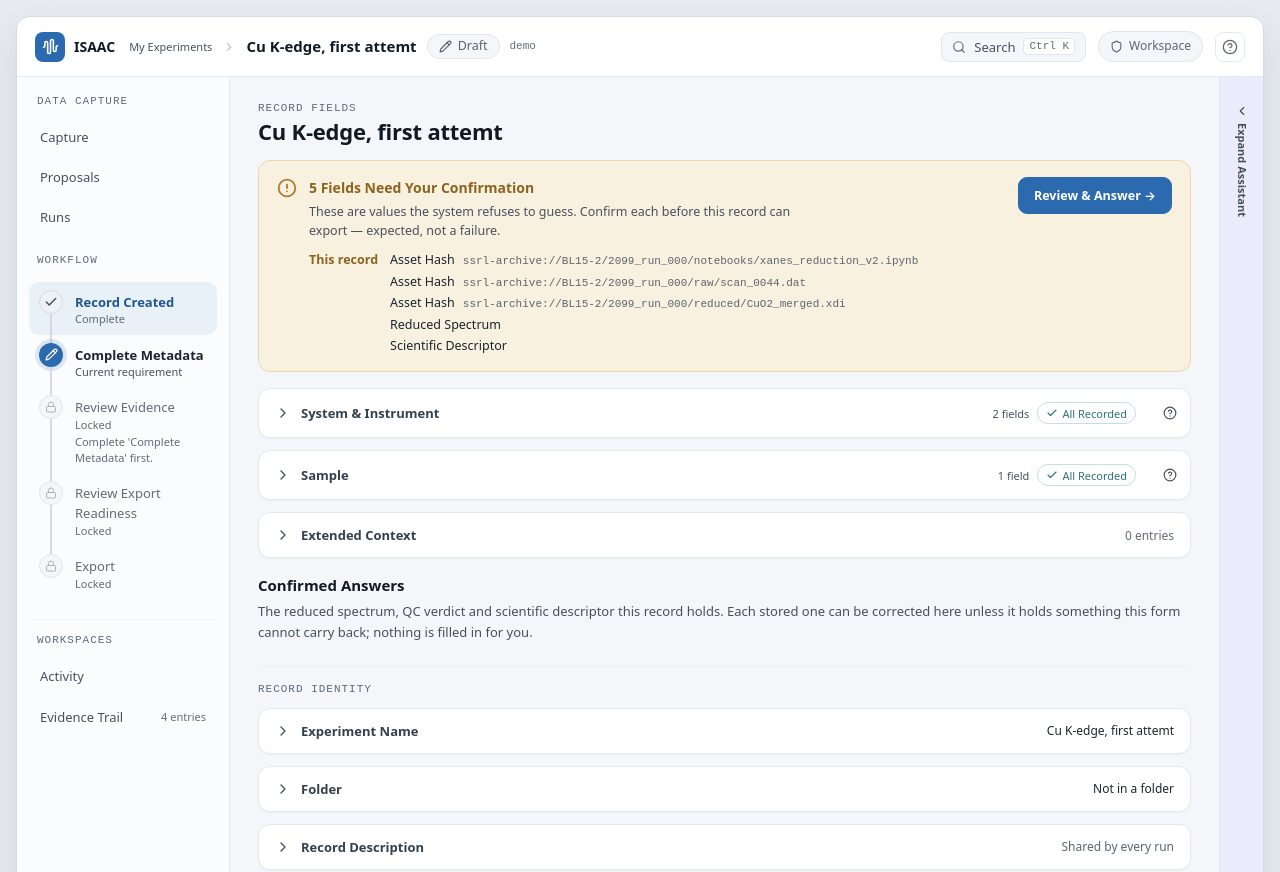
Test: the affordance is reachable › the record screen mounts it
Click the button "Experiment Name Cu K-edge, first attemt".
click(360, 731)  # box [259,709,1190,753]
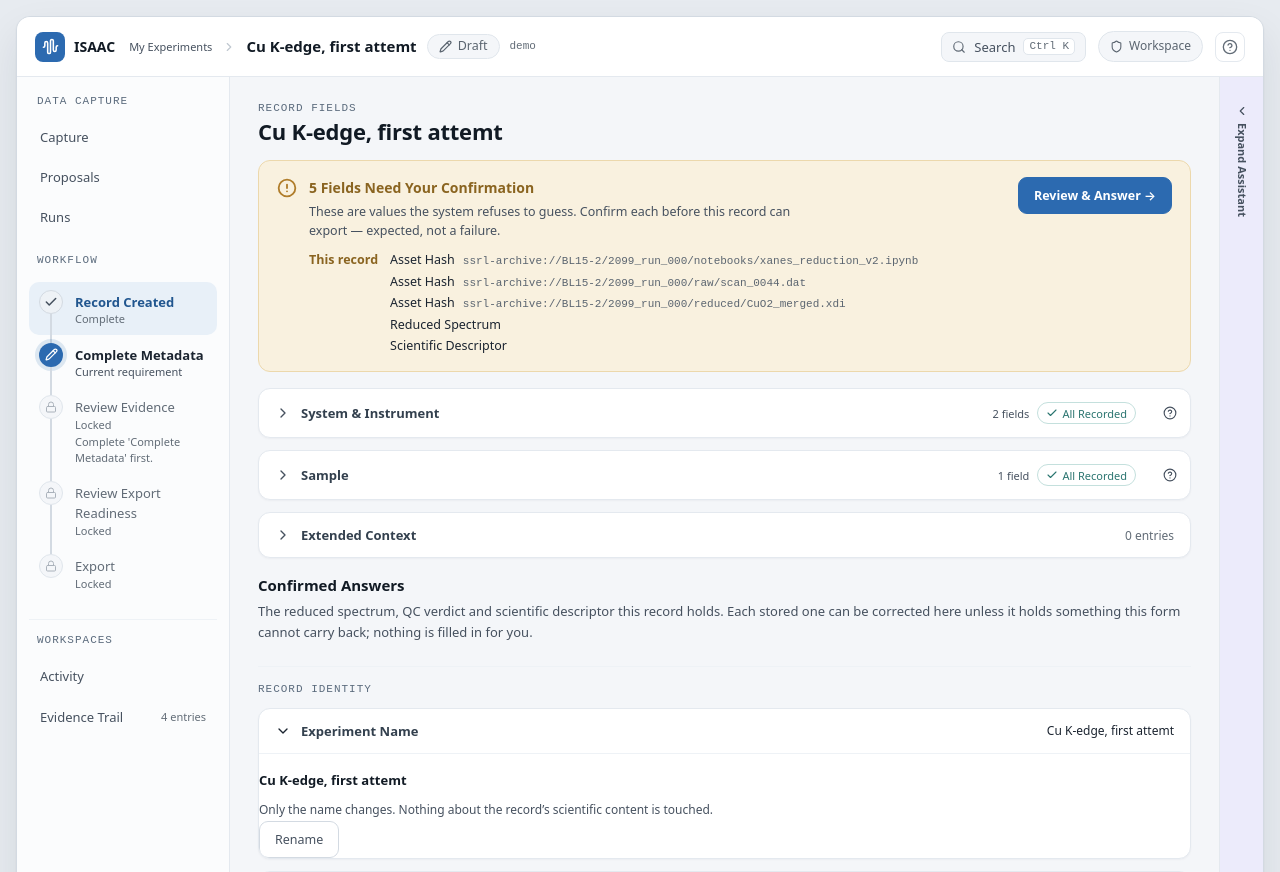
Expected: the button "Rename" is shown, [259,821,339,858]
